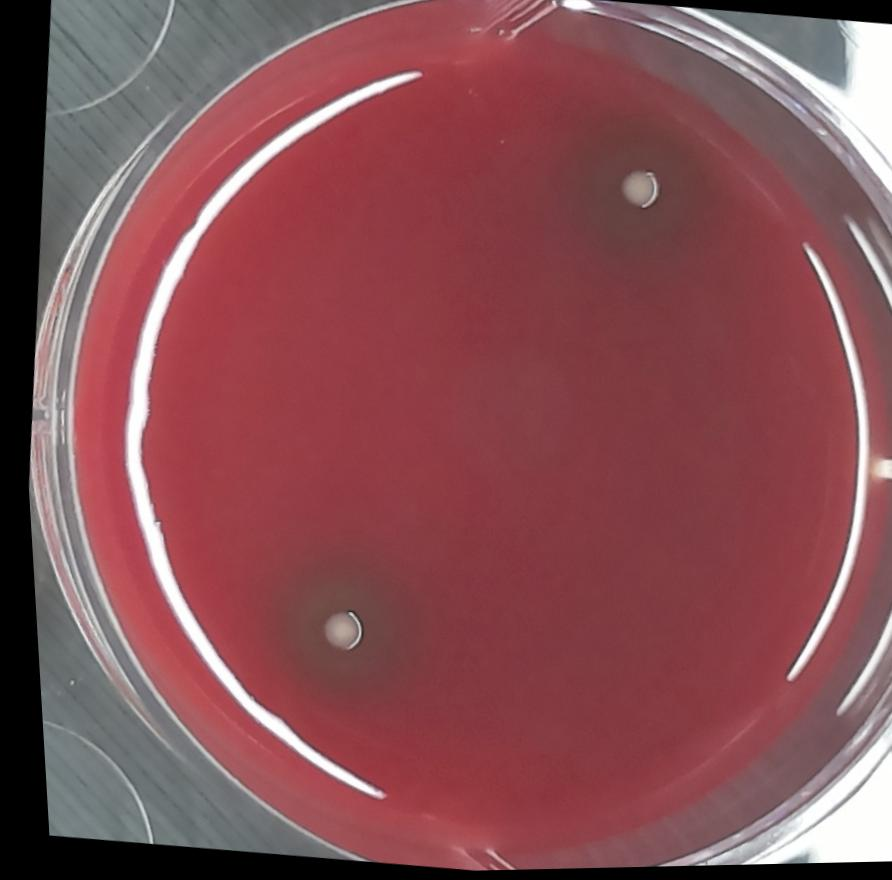vfluvialis: (220, 514, 447, 735), (542, 90, 735, 283)
